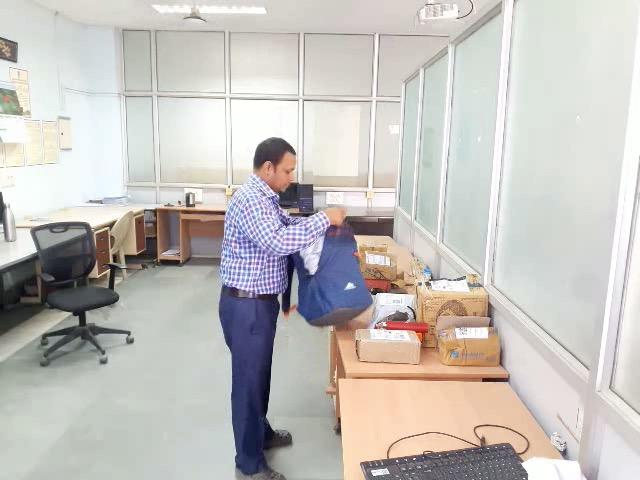shoplifting: (200, 201, 399, 323)
